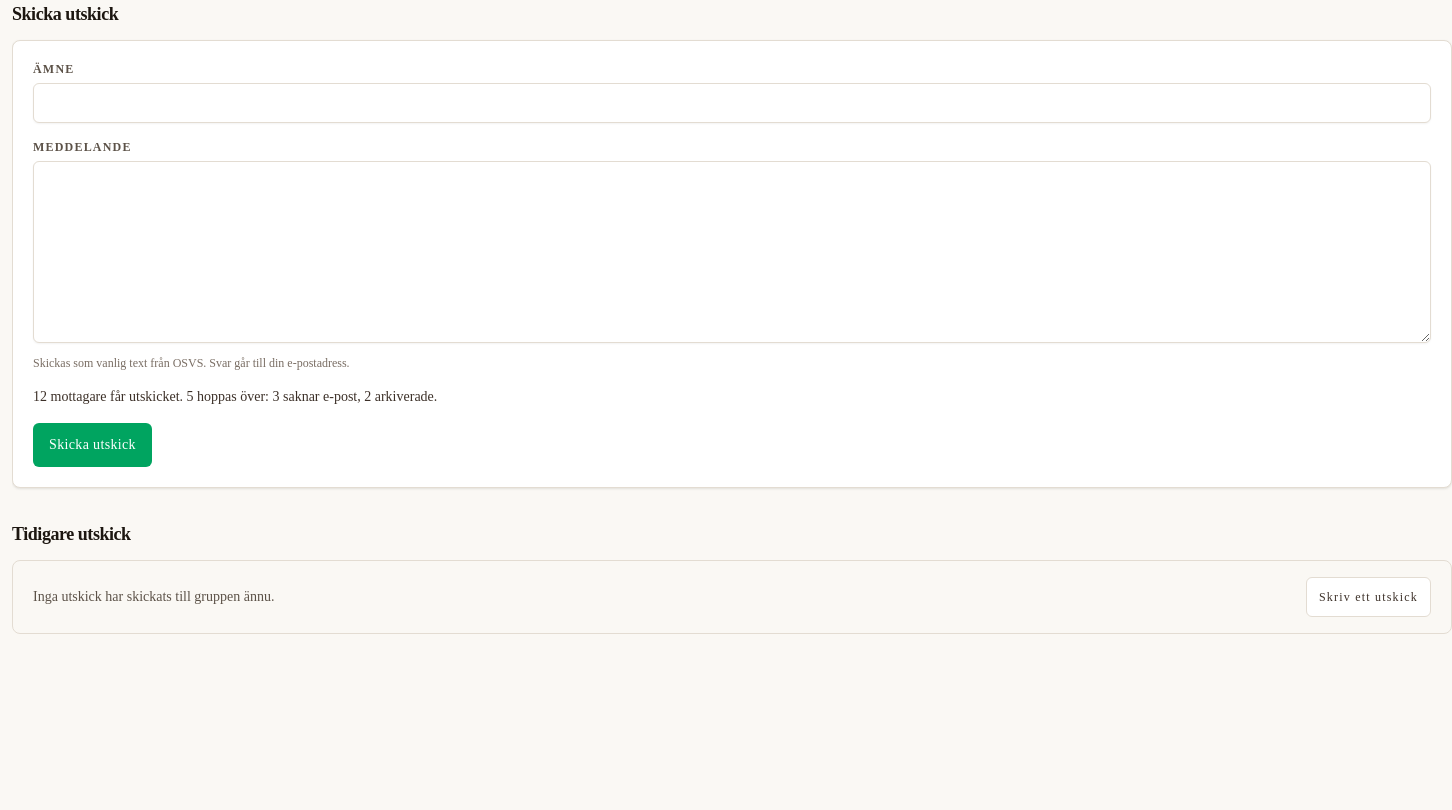
Test case: GroupMailingSection › validates before asking for confirmation
This screenshot has width=1452, height=810.
Expected: the text with test id "mailing-preview" is shown, [33, 389, 437, 404]
Click the button "Skicka utskick" at (92, 445), box [33, 423, 152, 467]
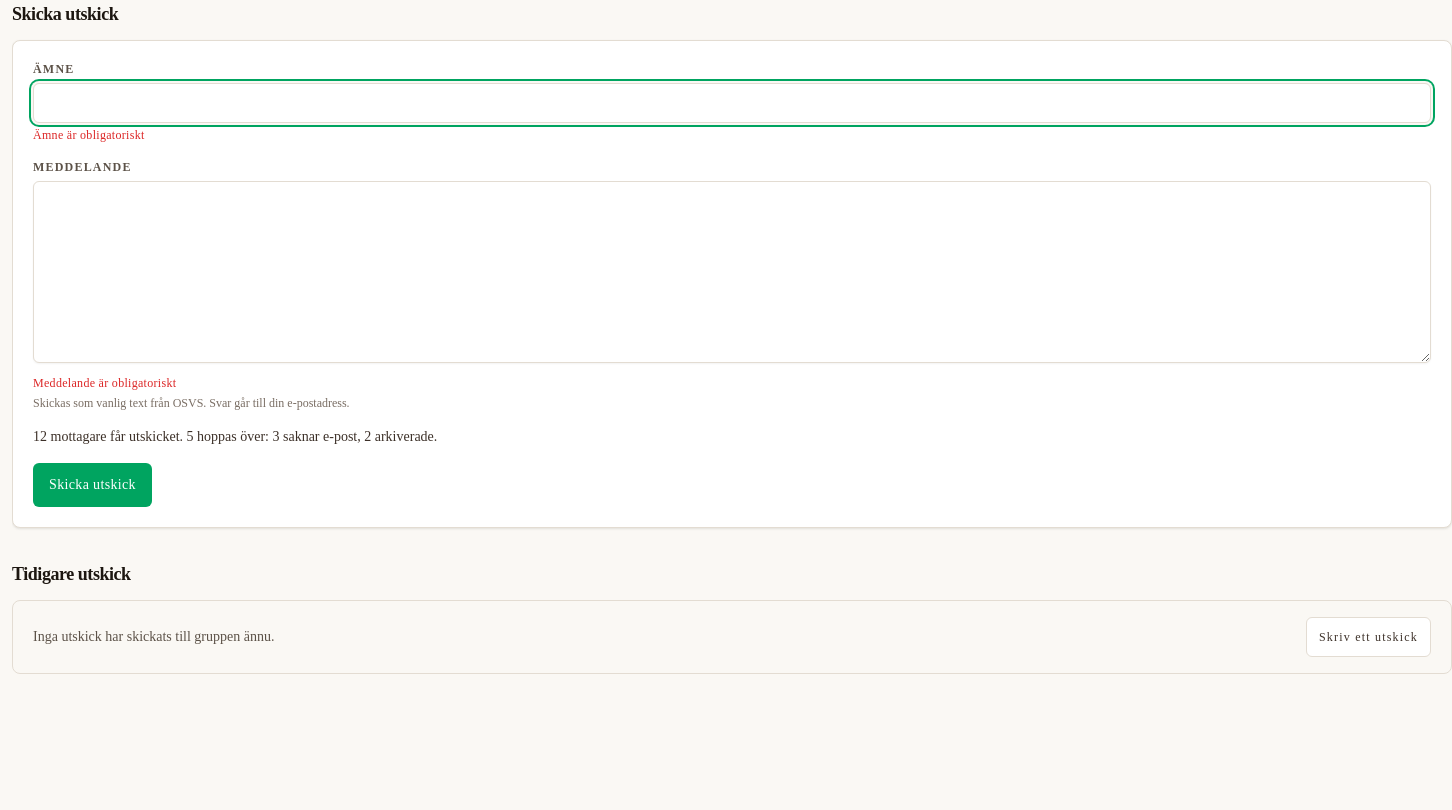
Result: the text "Ämne är obligatoriskt" is shown at [33, 128, 145, 142]
Result: the text "Meddelande är obligatoriskt" is shown at [33, 376, 176, 390]
